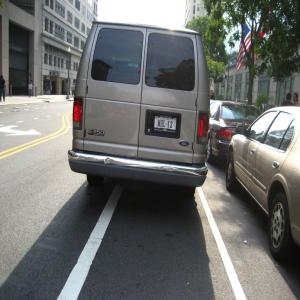Vehicle-registration-plate: (154, 116, 178, 133)
